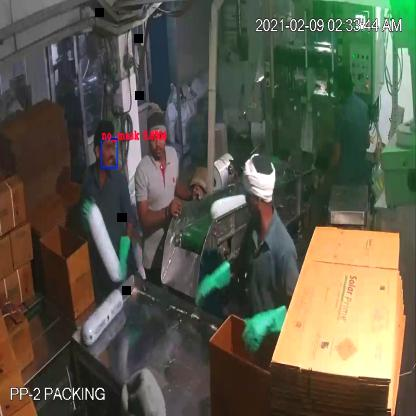glove: (240, 305, 288, 358), (192, 255, 236, 306), (111, 223, 136, 291), (78, 195, 104, 237)
no_glove: (134, 190, 186, 234), (314, 138, 344, 188), (170, 174, 205, 204)
